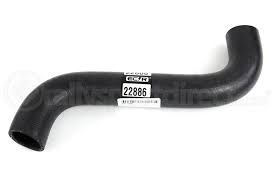radiator_hose: (9, 25, 261, 151)
